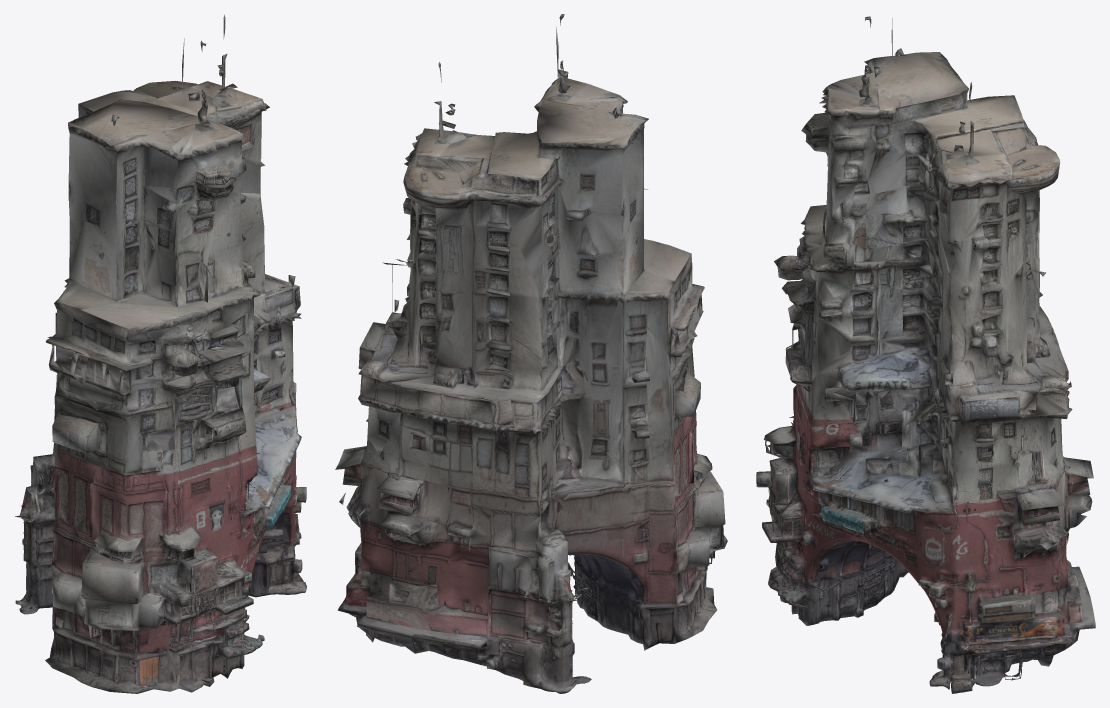
3 views of the same model, side by side, from view 1: azimuth 30°, elevation 25°; view 2: azimuth 150°, elevation 25°; view 3: azimuth 270°, elevation 25° (orthographic). The views are drawn at different scales.
Visible parts, largest first — view 1: tripo_mesh_06779703_cb04_4284_b52f_0793f5670d5e; view 2: tripo_mesh_06779703_cb04_4284_b52f_0793f5670d5e; view 3: tripo_mesh_06779703_cb04_4284_b52f_0793f5670d5e.
Boxes of the visible parts, x1,y1,x2,y2 form: tripo_mesh_06779703_cb04_4284_b52f_0793f5670d5e: [15, 14, 306, 693]; tripo_mesh_06779703_cb04_4284_b52f_0793f5670d5e: [335, 14, 727, 693]; tripo_mesh_06779703_cb04_4284_b52f_0793f5670d5e: [756, 16, 1095, 693].
Size of the model in its own units: 0.505 by 0.985 by 0.4982.
Materials: 1 (1 with a texture image).
